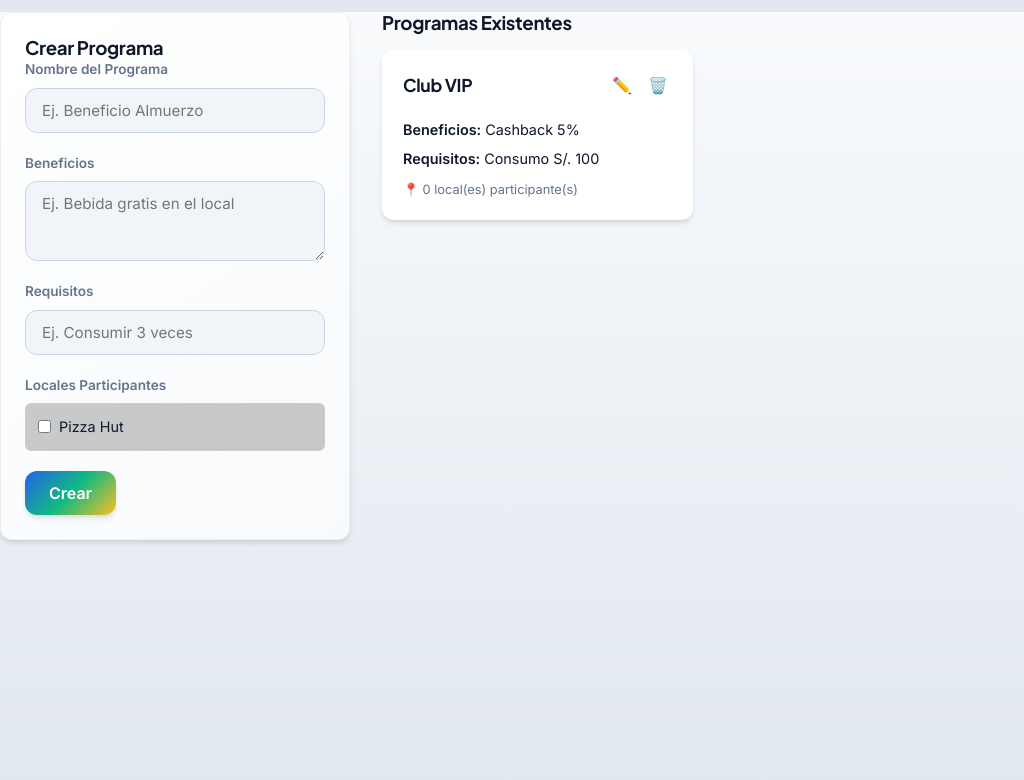
Scenario: ProgramManager Component › should support selecting/deselecting restaurants and editing/cancelling
// Toggle restaurant checkbox
Click the checkbox with test id "program-rest-checkbox-rest1" at (44, 427), box [38, 420, 51, 433]
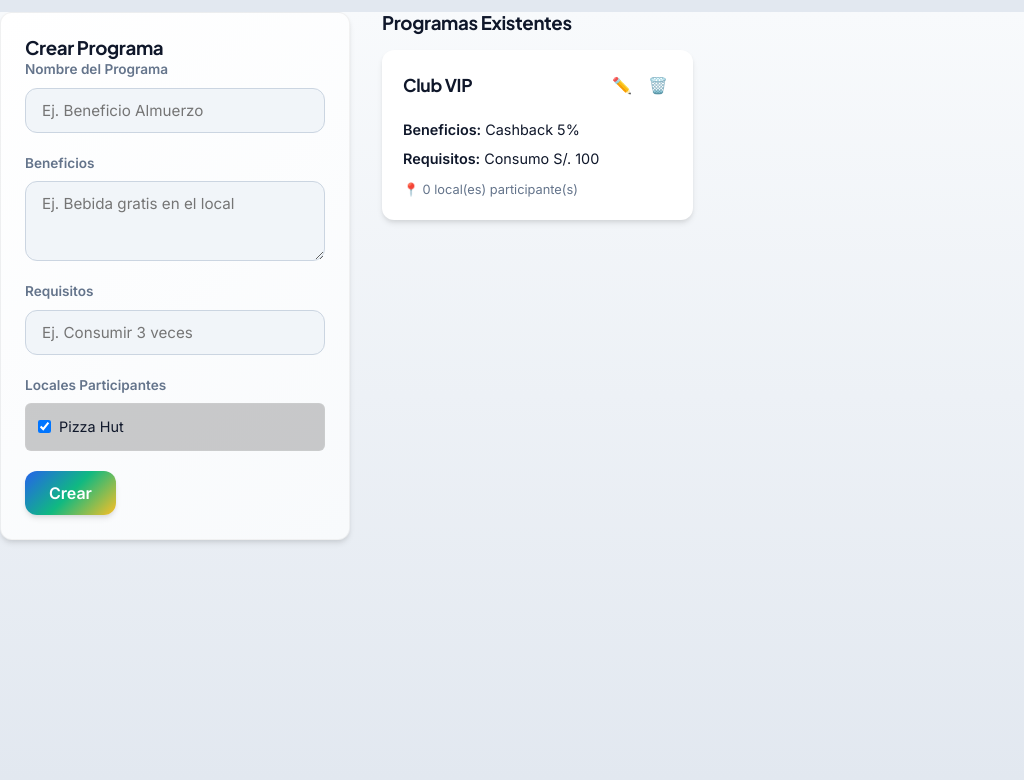
Click the checkbox with test id "program-rest-checkbox-rest1" at (44, 427), box [38, 420, 51, 433]
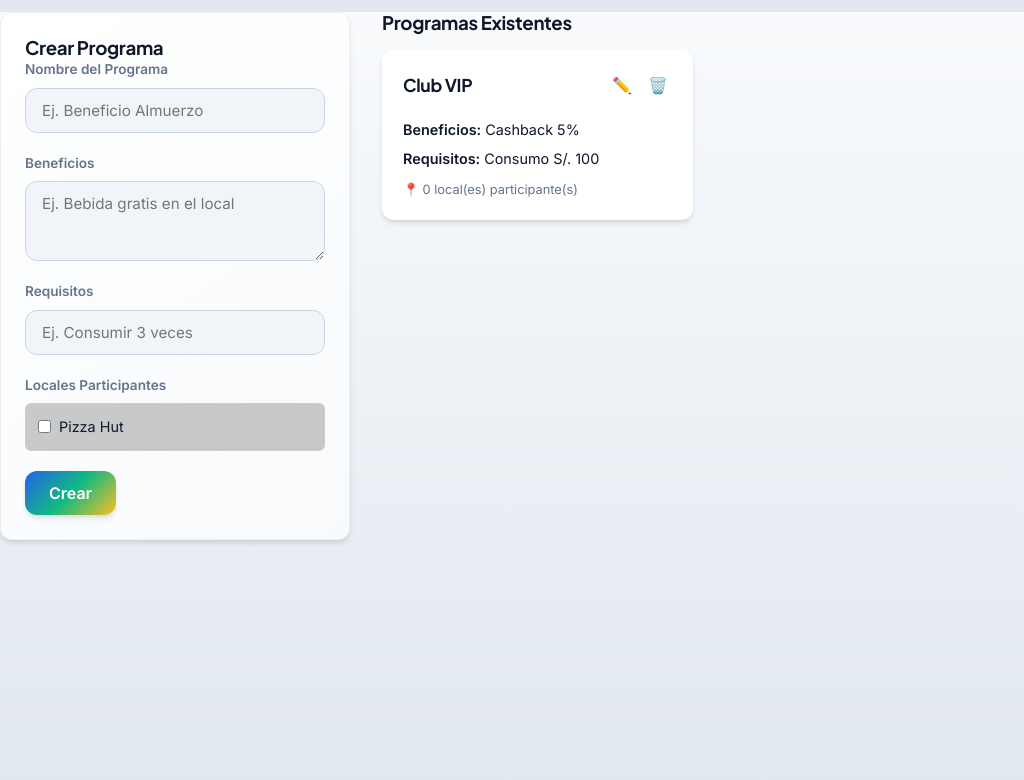
// Click edit button on the program
Click the button with test id "edit-program-btn-prog1" at (622, 86), box [608, 72, 636, 100]
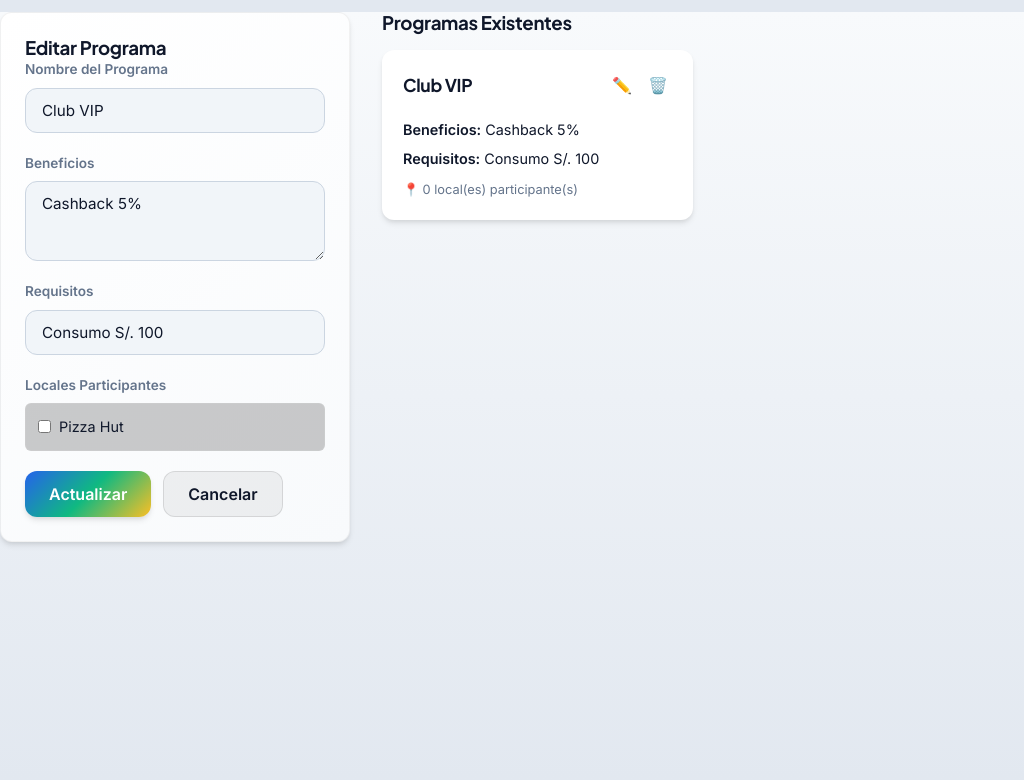
Expected: the button "Cancelar" is shown
// Cancel edit
Click the button "Cancelar" at (223, 494), box [163, 471, 283, 517]
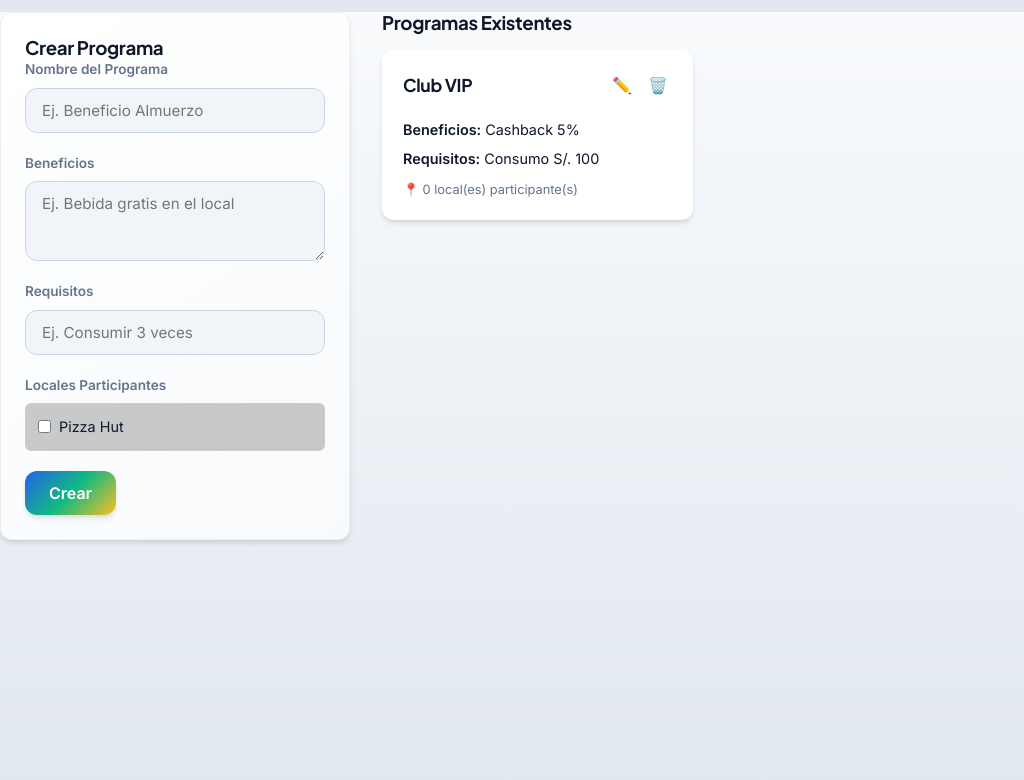
Expected: the button "Cancelar" is gone
